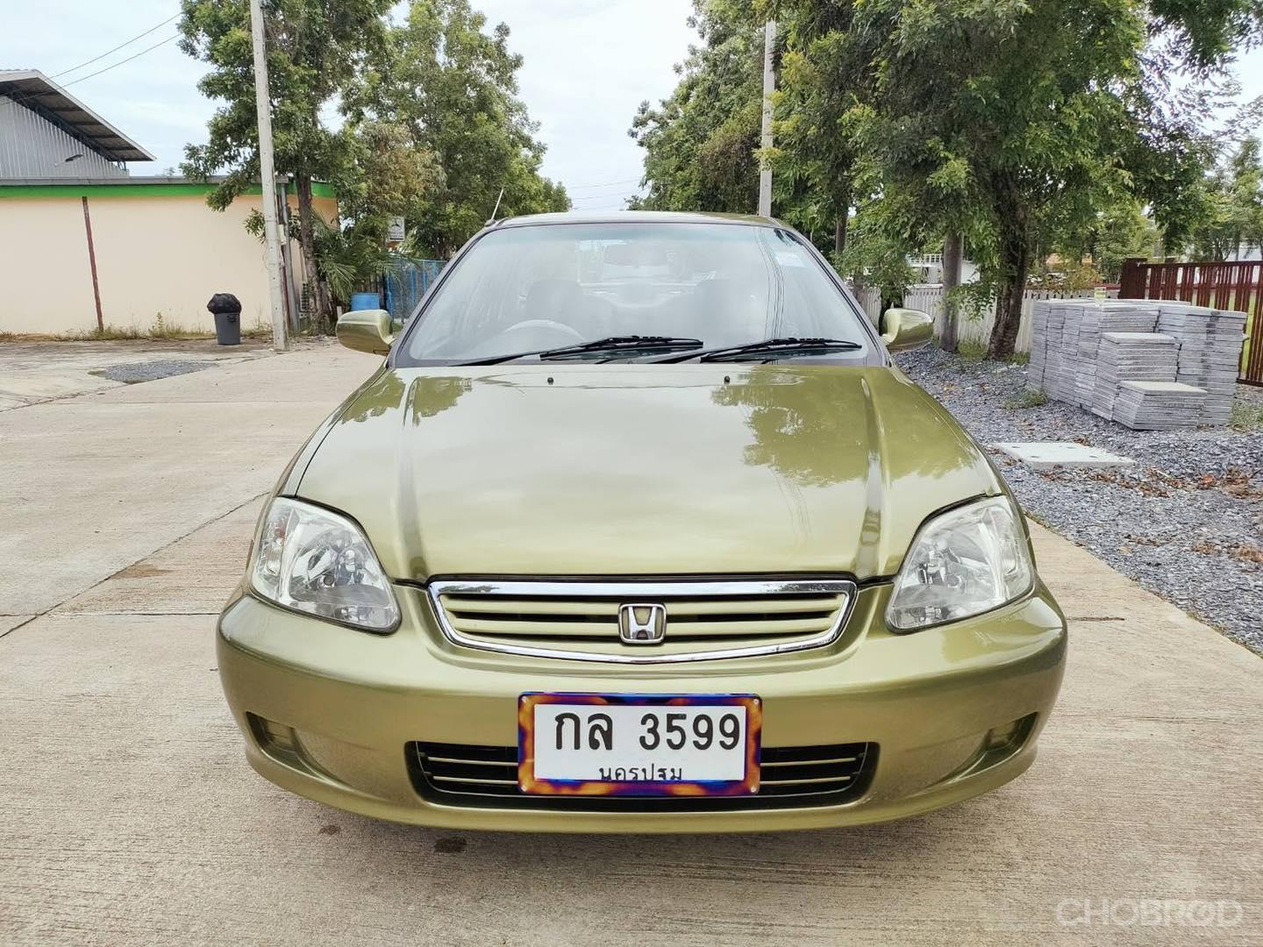license-plate: (521, 690, 762, 799)
